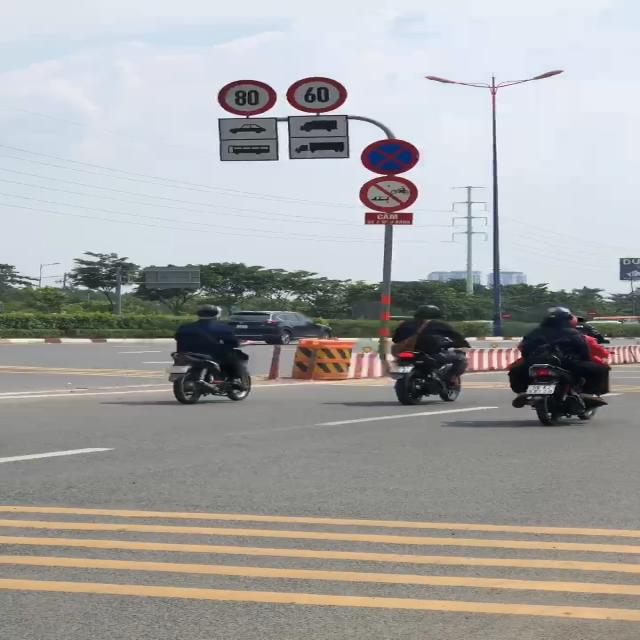Bien bao cam dung xe va do xe: (357, 137, 429, 176)
Bien bao toc do toi da cho phep: (216, 76, 283, 117), (286, 74, 351, 116)
